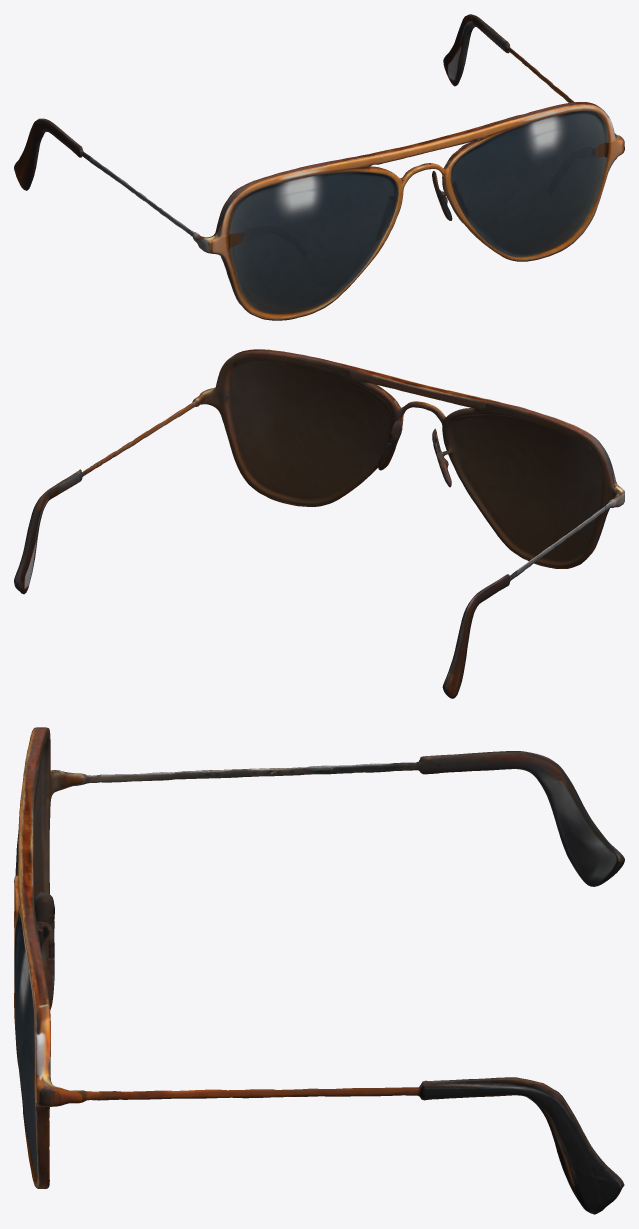
Rendered from glasses-black.glb.
3 renders of one model, top to bottom at view 1: azimuth 30°, elevation 25°; view 2: azimuth 150°, elevation 25°; view 3: azimuth 270°, elevation 25°, orthographic. The views are drawn at different scales.
Visible parts, largest first — view 1: Mesh_0; view 2: Mesh_0; view 3: Mesh_0.
Boxes of the visible parts, x1,y1,x2,y2 form: Mesh_0: (14,14,624,320); Mesh_0: (14,349,624,698); Mesh_0: (14,727,624,1214).
Size of the model in its own units: 2 by 0.6529 by 1.55.
1 material, 1 textured.
